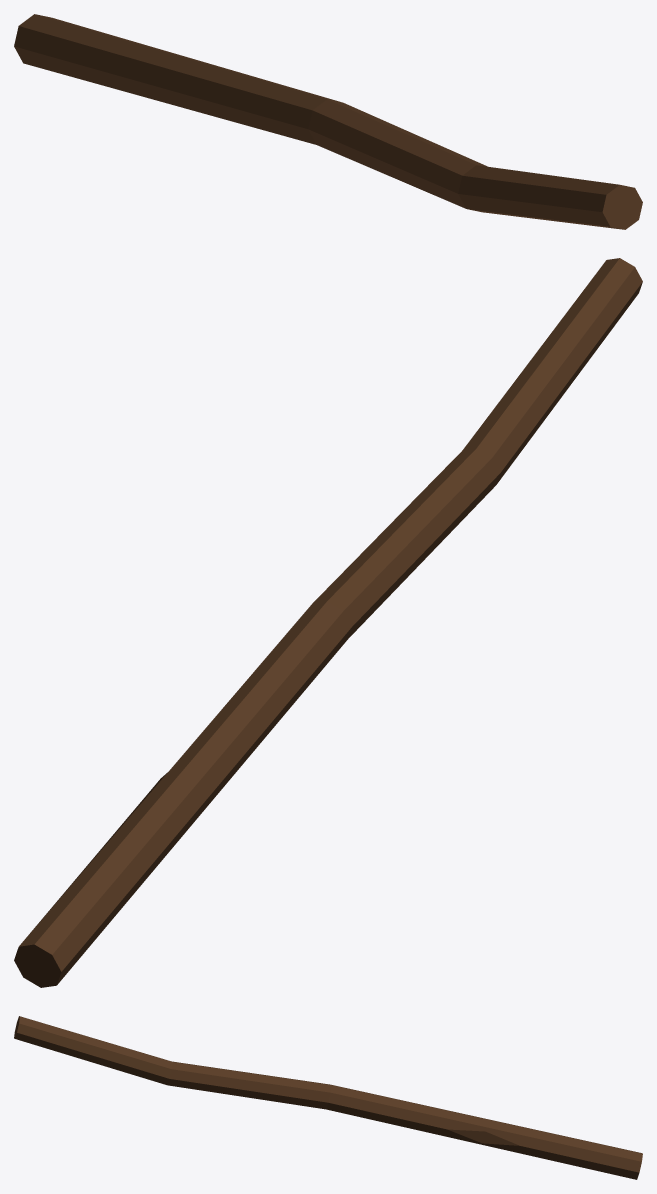
The model's file is Fence_8.fbx.
The picture shows the model from 3 angles, top to bottom: view 1: azimuth 30°, elevation 25°; view 2: azimuth 150°, elevation 25°; view 3: azimuth 270°, elevation 25°; orthographic projection. The views are drawn at different scales.
Visible parts, largest first — view 1: fence_7; view 2: fence_7; view 3: fence_7.
Boxes of the visible parts, x1,y1,x2,y2 form: fence_7: (14,14,642,229); fence_7: (14,258,642,987); fence_7: (14,1016,642,1179).
Size of the model in its own units: 21.44 by 132 by 462.
